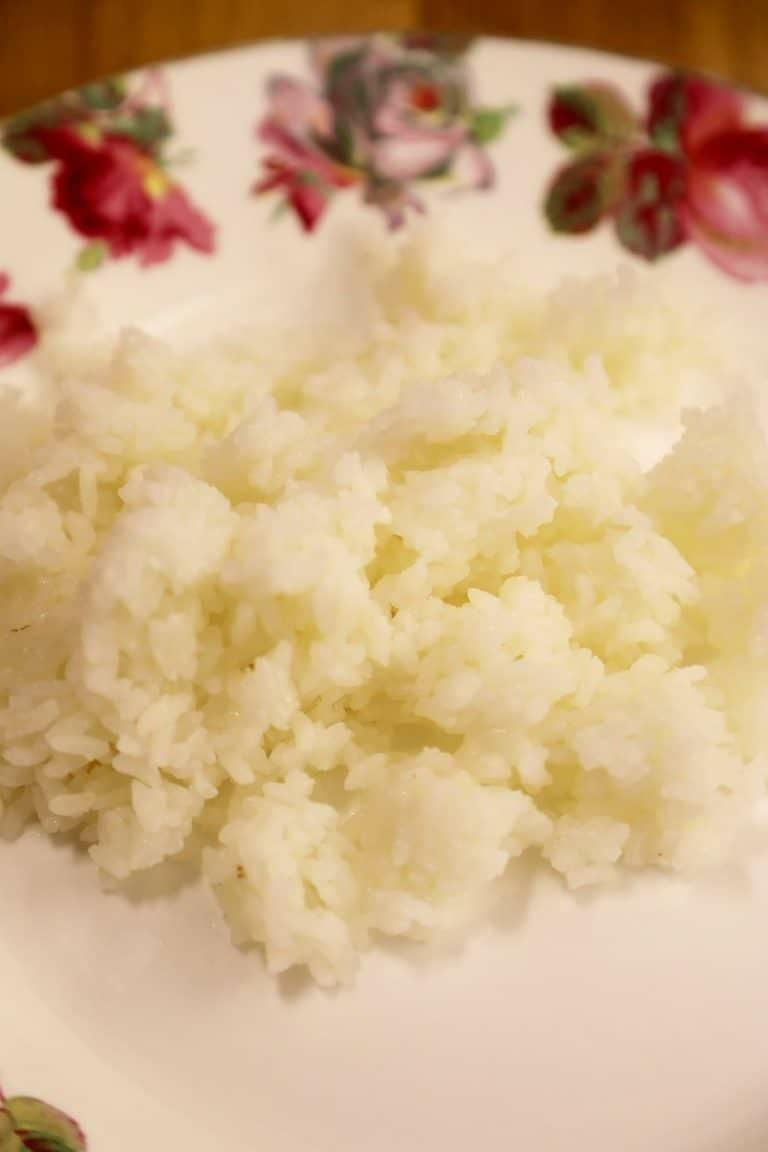WhiteRice: (0, 205, 768, 988)
